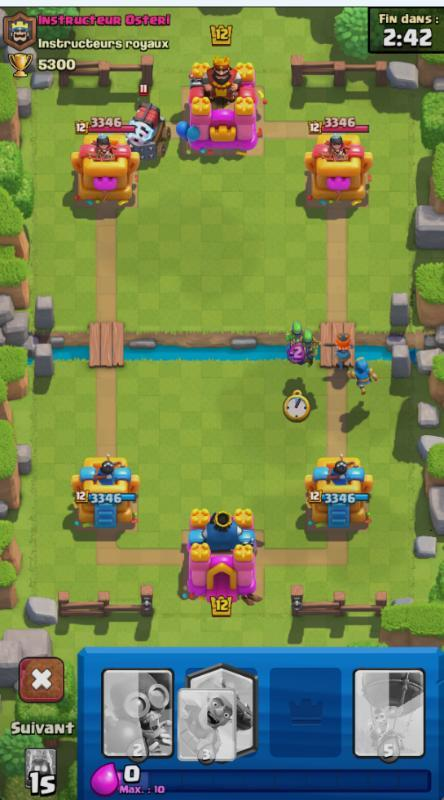enemy_sparky: (122, 97, 171, 153)
player_valkyrie: (319, 323, 356, 373)
player_wizard: (343, 351, 383, 404)
